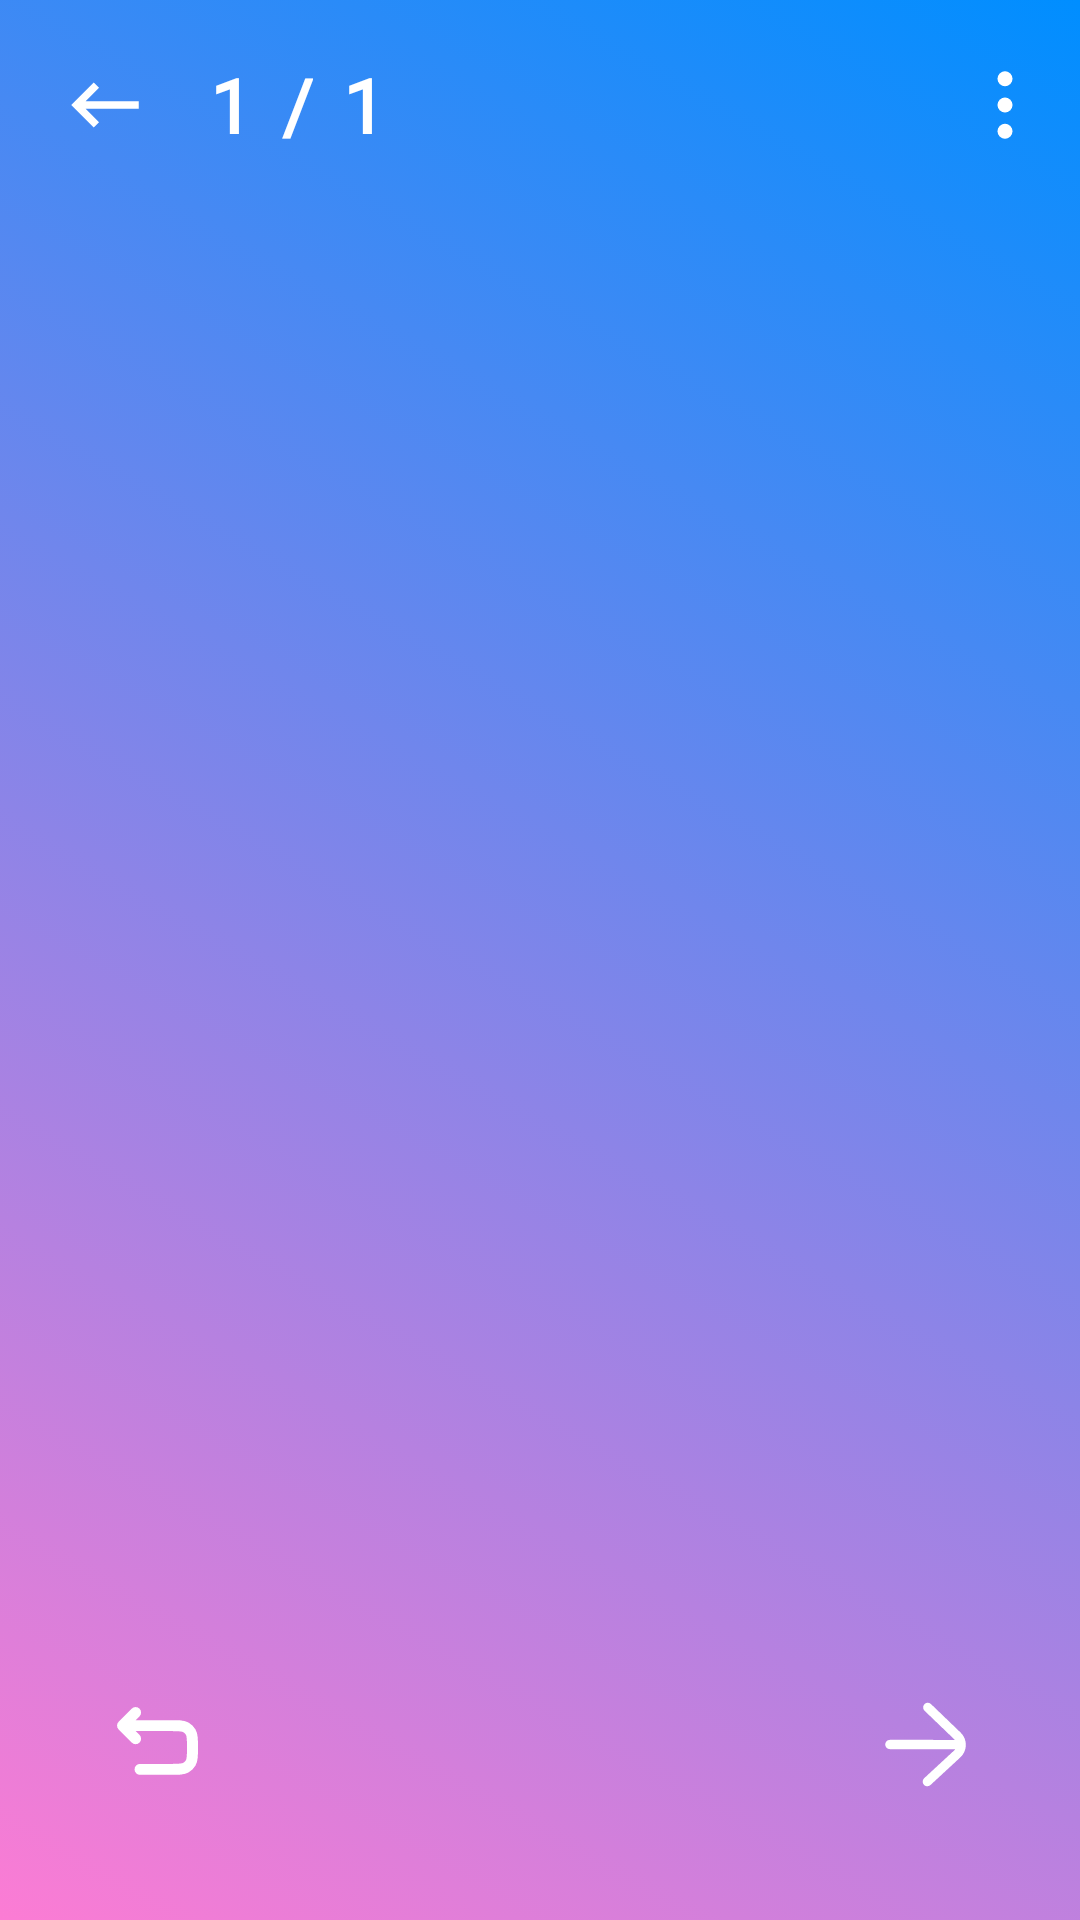

Screen size 1080 × 1920. Icon name, then its box in pixels as (x1, y1, x2, y2):
keyboard backspace: (71, 82, 139, 128)
next right arrow: (885, 1702, 966, 1787)
undo left: (117, 1707, 198, 1775)
vertical full: (997, 71, 1013, 139)
